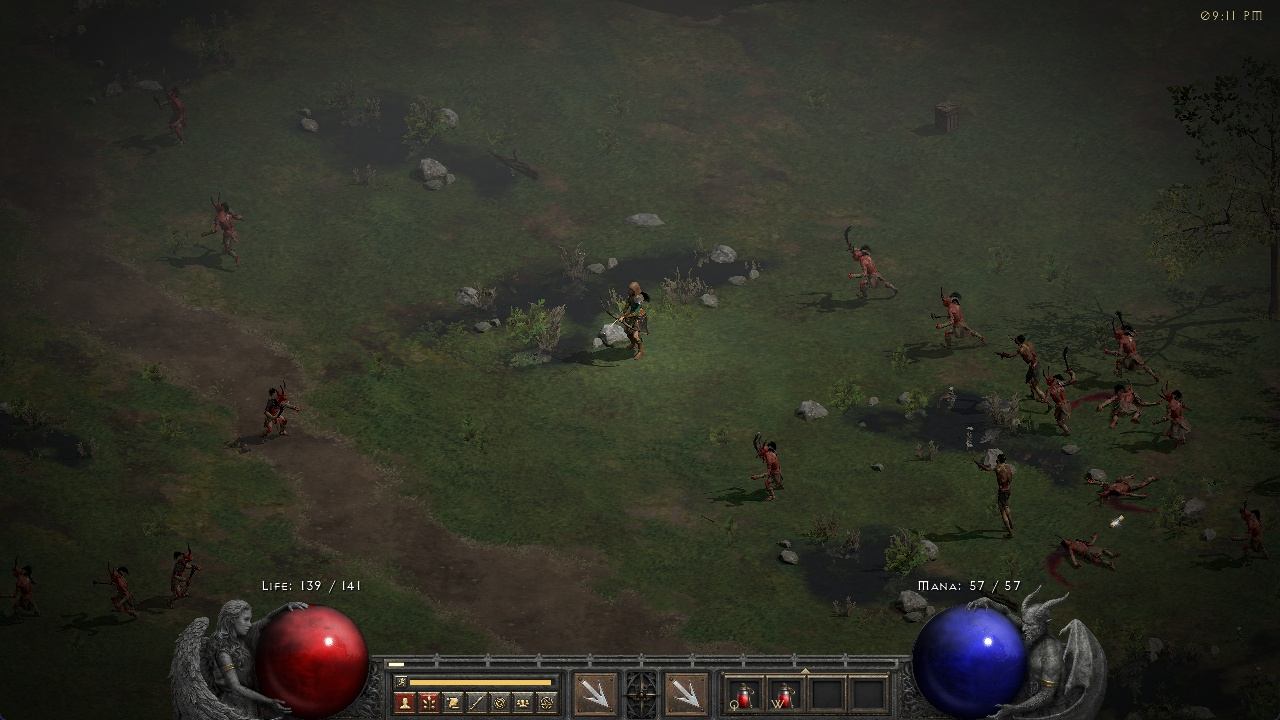fallen: (841, 225, 898, 303), (204, 188, 249, 269), (930, 289, 984, 348), (1105, 312, 1153, 376), (748, 429, 791, 499), (1042, 362, 1083, 435), (153, 82, 195, 147), (1155, 382, 1197, 444), (258, 381, 300, 443), (101, 557, 135, 629), (4, 555, 39, 622), (1237, 502, 1271, 566), (168, 545, 201, 599)
